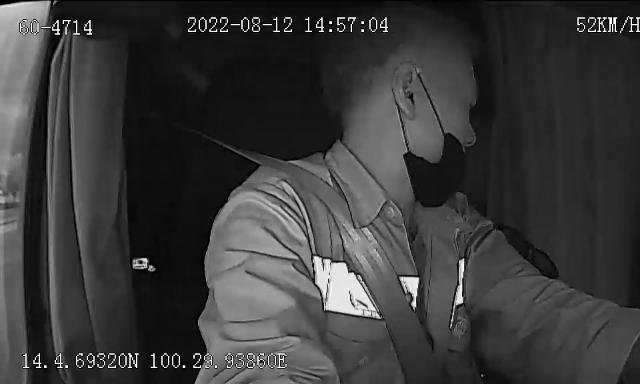Seatbelt: (238, 148, 450, 384)
